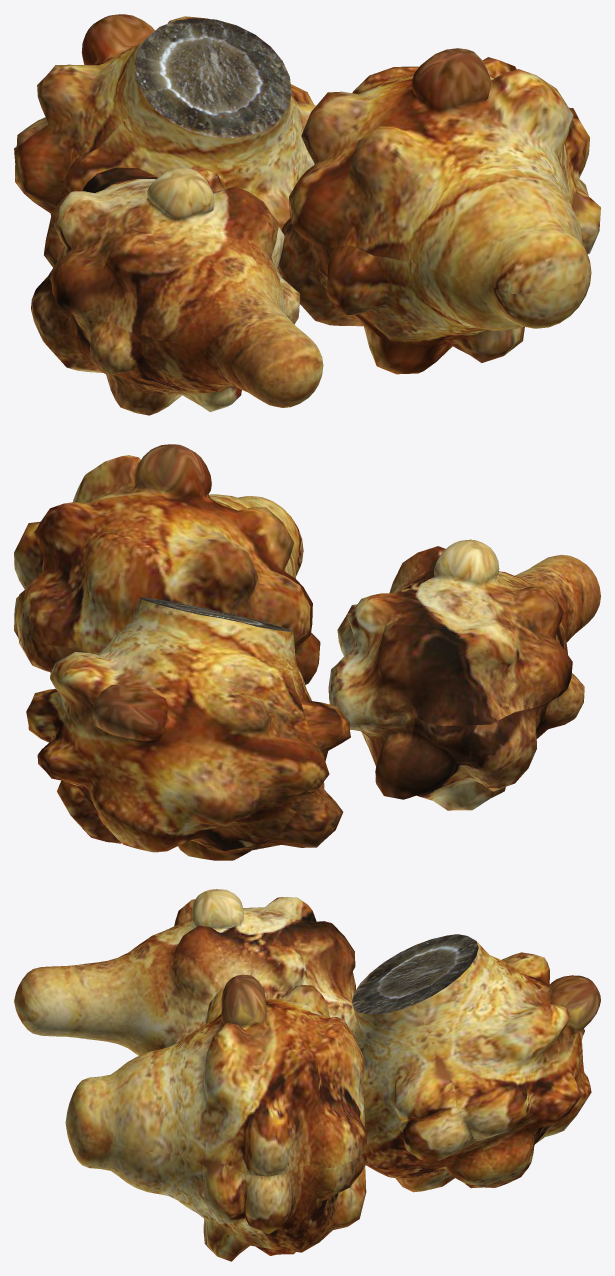
File: sanqi.FBX
3 views of the same model, one above another, from view 1: azimuth 30°, elevation 25°; view 2: azimuth 150°, elevation 25°; view 3: azimuth 270°, elevation 25° (orthographic). The views are drawn at different scales.
Visible parts, largest first — view 1: Cylinder002, Cylinder001, Cylinder003; view 2: Cylinder003, Cylinder001, Cylinder002; view 3: Cylinder002, Cylinder003, Cylinder001.
Boxes of the visible parts, x1,y1,x2,y2 form: Cylinder002: (278, 48, 600, 374); Cylinder001: (31, 165, 323, 415); Cylinder003: (14, 14, 316, 279); Cylinder003: (26, 597, 350, 860); Cylinder001: (328, 539, 600, 810); Cylinder002: (14, 444, 320, 684); Cylinder002: (65, 974, 366, 1261); Cylinder003: (351, 934, 600, 1192); Cylinder001: (14, 889, 356, 1055).
Size of the model in its own units: 46.22 by 26.59 by 49.49.
1 material, 1 textured.
